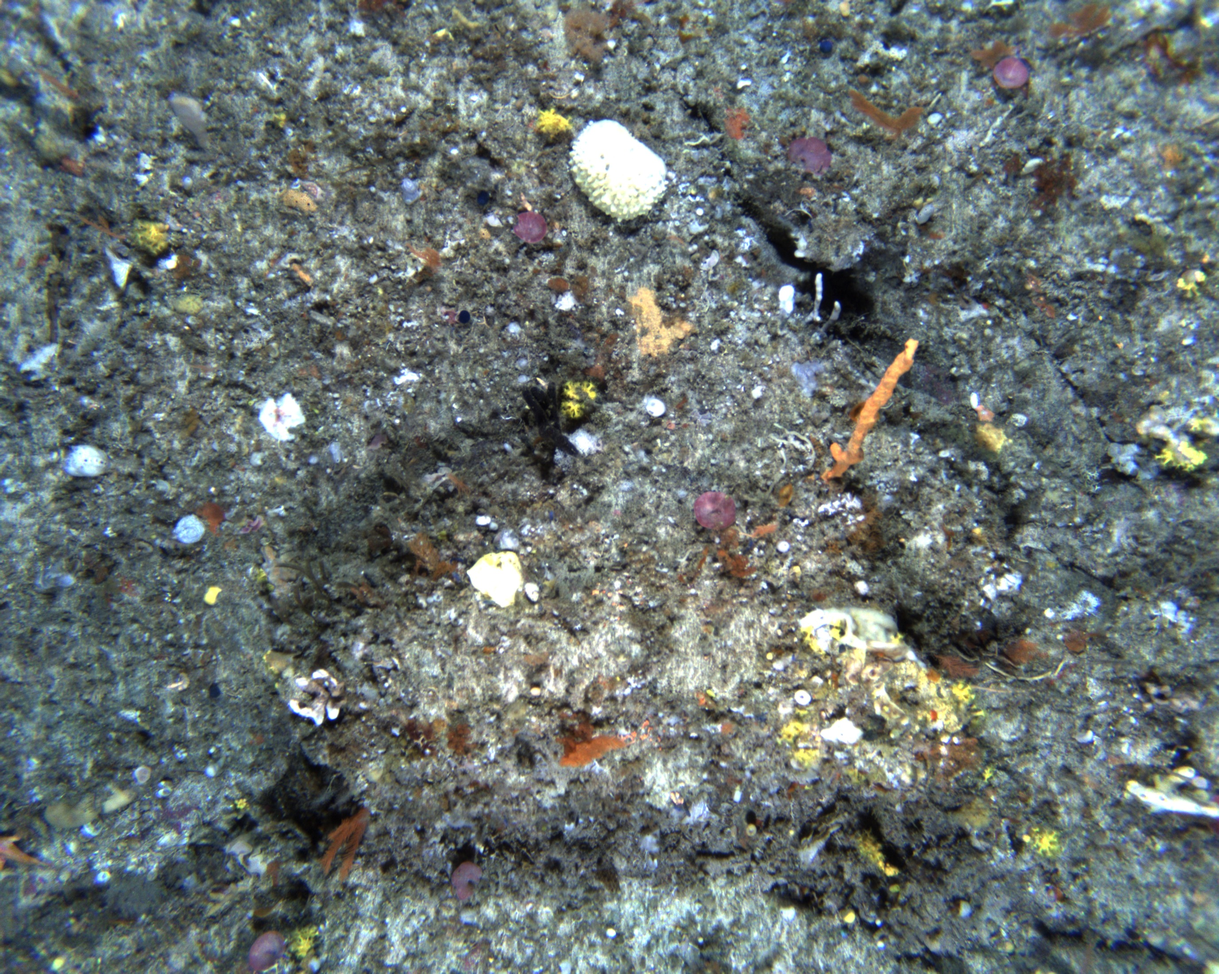Brachionichthyidae: (0, 828, 55, 876)
